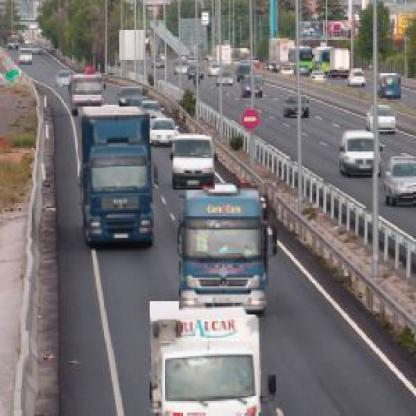bus: (290, 46, 315, 67)
car: (175, 138, 218, 193), (341, 126, 382, 176), (385, 154, 416, 209), (369, 104, 398, 134), (151, 116, 177, 146), (120, 84, 145, 109), (381, 74, 403, 101), (241, 76, 264, 101), (282, 96, 309, 117), (55, 68, 72, 89), (218, 69, 236, 86), (18, 49, 34, 68), (351, 69, 365, 89), (174, 61, 190, 76), (235, 64, 252, 78), (208, 66, 219, 77)
truck: (151, 303, 278, 416), (180, 184, 278, 317), (79, 106, 156, 249), (69, 74, 104, 109), (266, 38, 291, 66), (331, 49, 350, 69)
